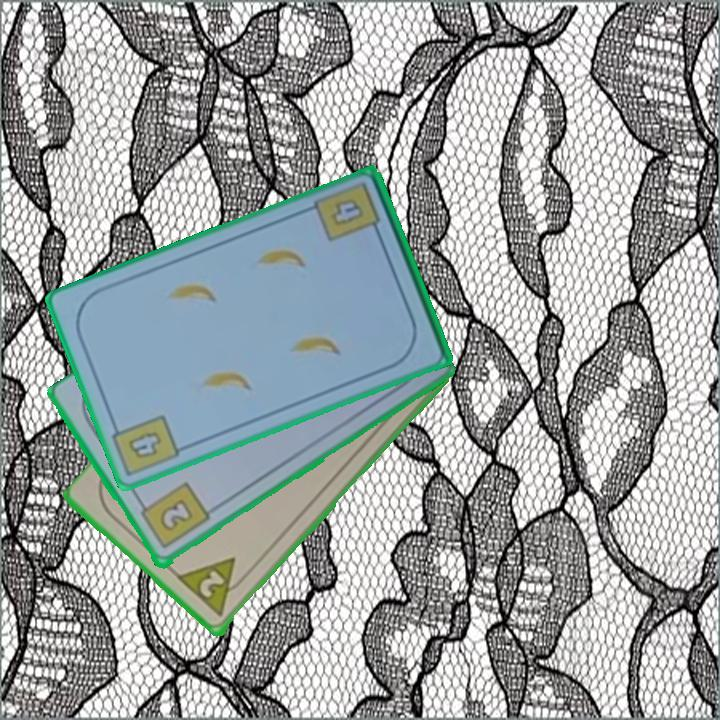2b: (134, 479, 213, 553)
2p: (195, 567, 228, 601)
4b: (107, 411, 183, 476), (327, 195, 367, 230)
